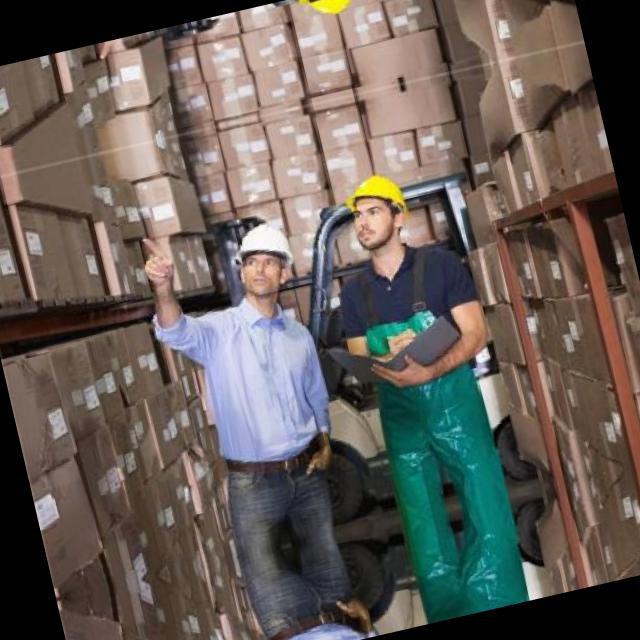helmet: (218, 204, 311, 310), (333, 159, 420, 247), (291, 0, 370, 29)
